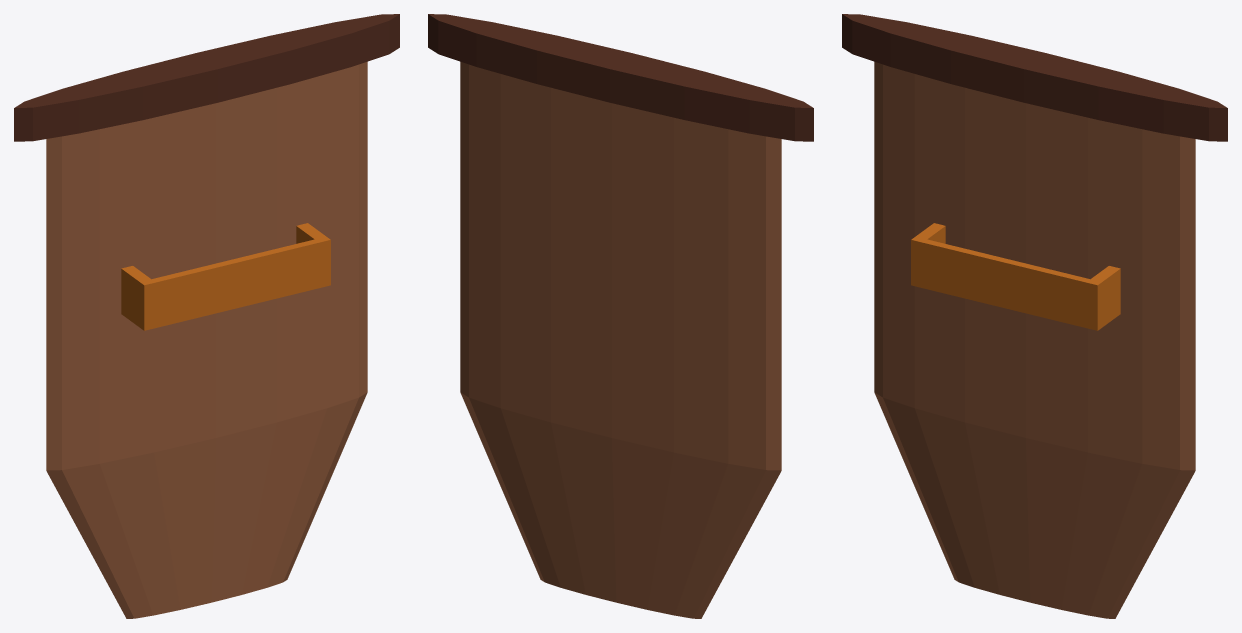
The model's file is Shield_2.fbx.
3 renders of one model, left to right at view 1: azimuth 30°, elevation 25°; view 2: azimuth 150°, elevation 25°; view 3: azimuth 330°, elevation 25°, orthographic.
Visible parts, largest first — view 1: Cylinder, Cube; view 2: Cylinder; view 3: Cylinder, Cube.
Part boxes in pixels (x1,y1,x2,y2): Cylinder: (14,14,399,618); Cube: (121,223,330,330); Cylinder: (428,14,813,618); Cylinder: (842,14,1227,618); Cube: (911,223,1120,330).
Size of the model in its own units: 120 by 160 by 22.41.
